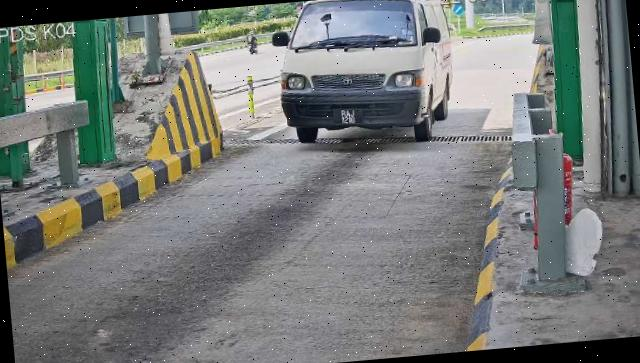License_Plate: (331, 106, 366, 131)
van: (273, 1, 458, 153)
